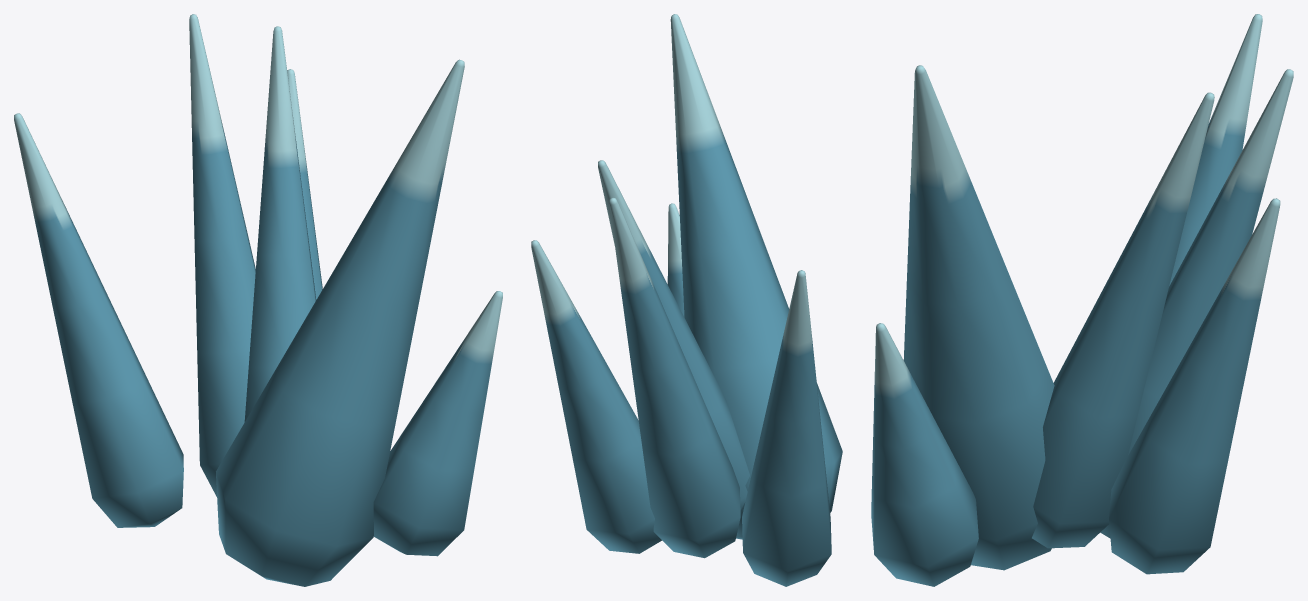
Rendered from prop_crystal4_d547.glb.
3 renders of one model, left to right at view 1: azimuth 30°, elevation 25°; view 2: azimuth 150°, elevation 25°; view 3: azimuth 270°, elevation 25°, orthographic. The views are drawn at different scales.
Visible parts, largest first — view 1: prop_crystal4_d547; view 2: prop_crystal4_d547; view 3: prop_crystal4_d547.
Part boxes in pixels (x1,y1,x2,y2): prop_crystal4_d547: (14, 14, 502, 586); prop_crystal4_d547: (531, 14, 842, 586); prop_crystal4_d547: (871, 14, 1293, 586).
Bounding box in the file's own units: 0.6443 × 0.9844 × 0.6695.
1 material, 1 textured.
